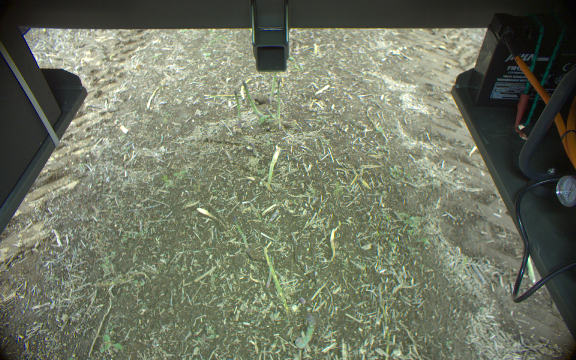aspa: (260, 246, 288, 310), (240, 78, 267, 121), (262, 146, 287, 188), (292, 314, 315, 352), (272, 81, 287, 132), (233, 213, 249, 255), (231, 91, 243, 131), (265, 71, 276, 111)
